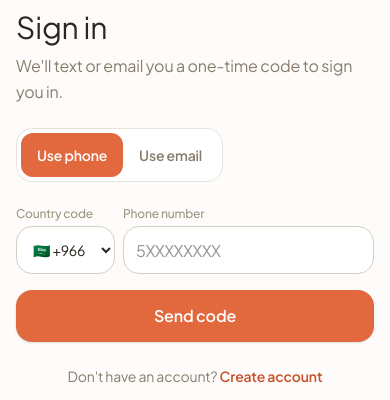
LoginPage › toggles to email mode and hides the phone input
Click the button "Use email" at [171, 155], box x1=123 y1=133 x2=218 y2=177
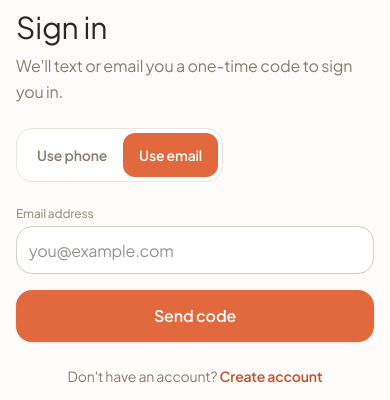
Now the field labelled "Email address" is shown, box x1=16 y1=226 x2=374 y2=274
Now the label labelled "Phone number" is gone
